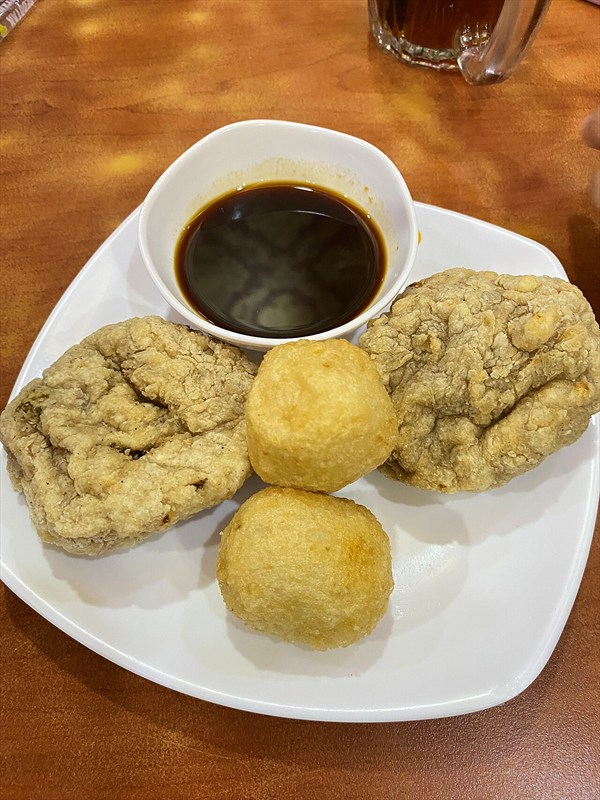Pempek: (35, 119, 557, 735)
